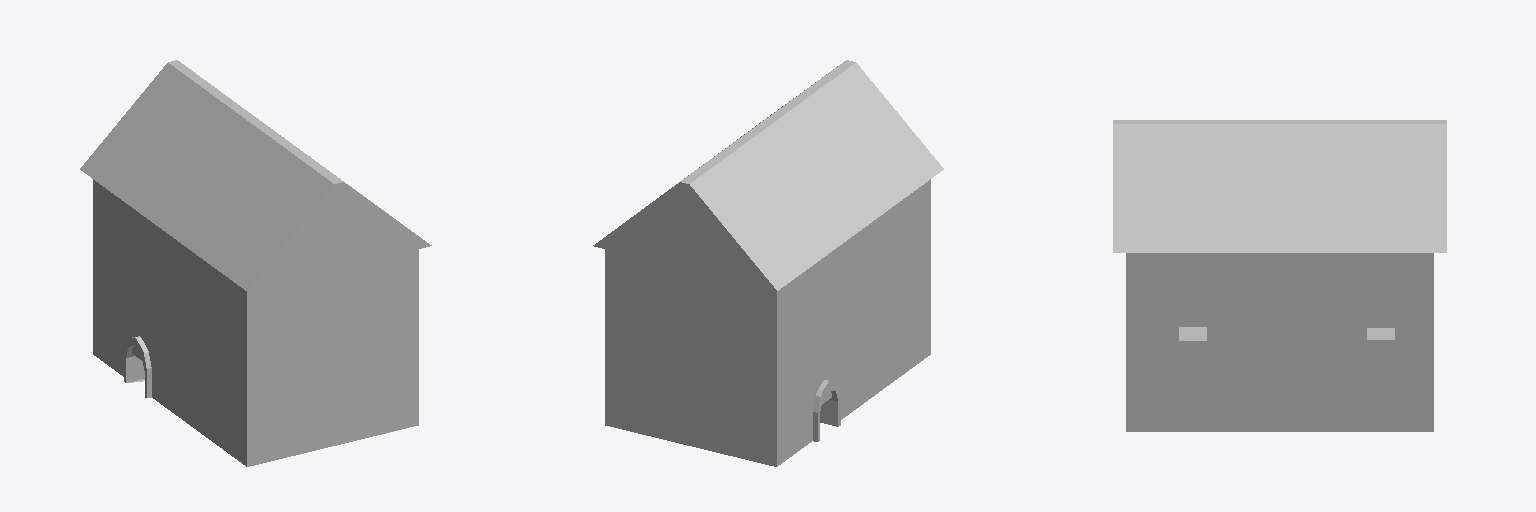
The model's file is hall.obj.
3 views of the same model, side by side, from view 1: azimuth 30°, elevation 25°; view 2: azimuth 150°, elevation 25°; view 3: azimuth 270°, elevation 25° (orthographic).
Parts seen in each view (by area): view 1: CastleWalls.002_Cylinder.006; view 2: CastleWalls.002_Cylinder.006; view 3: CastleWalls.002_Cylinder.006.
Boxes of the visible parts, box(x1,y1,x2,y2) form: CastleWalls.002_Cylinder.006: box(80, 60, 431, 466); CastleWalls.002_Cylinder.006: box(593, 60, 943, 466); CastleWalls.002_Cylinder.006: box(1113, 120, 1446, 431).
Size of the model in its own units: 3.1 by 4.27 by 4.82.